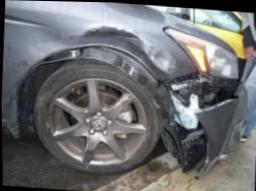Bumper: (163, 69, 246, 176)
Fender: (43, 14, 200, 75)
